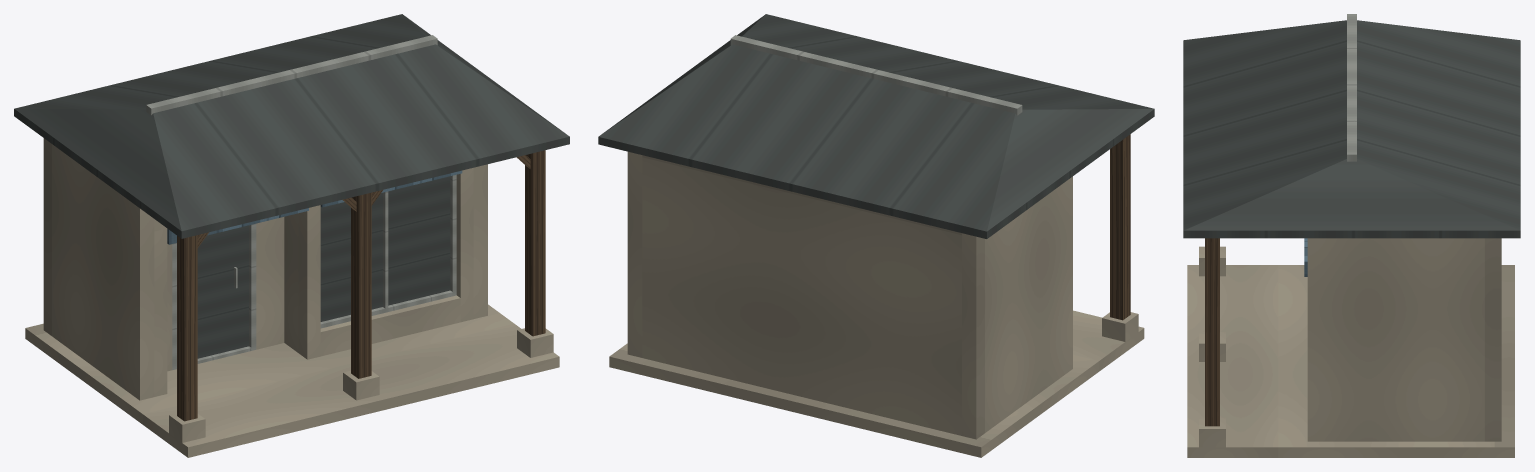
3 renders of one model, left to right at view 1: azimuth 30°, elevation 25°; view 2: azimuth 150°, elevation 25°; view 3: azimuth 270°, elevation 25°, orthographic.
Parts seen in each view (by area): view 1: zagreb; view 2: zagreb; view 3: zagreb.
Boxes of the visible parts, x1,y1,x2,y2 form: zagreb: (14, 14, 569, 457); zagreb: (598, 14, 1154, 457); zagreb: (1183, 14, 1520, 457).
Bounding box in the file's own units: 5.35 × 3.7 × 4.
1 material, 1 textured.
